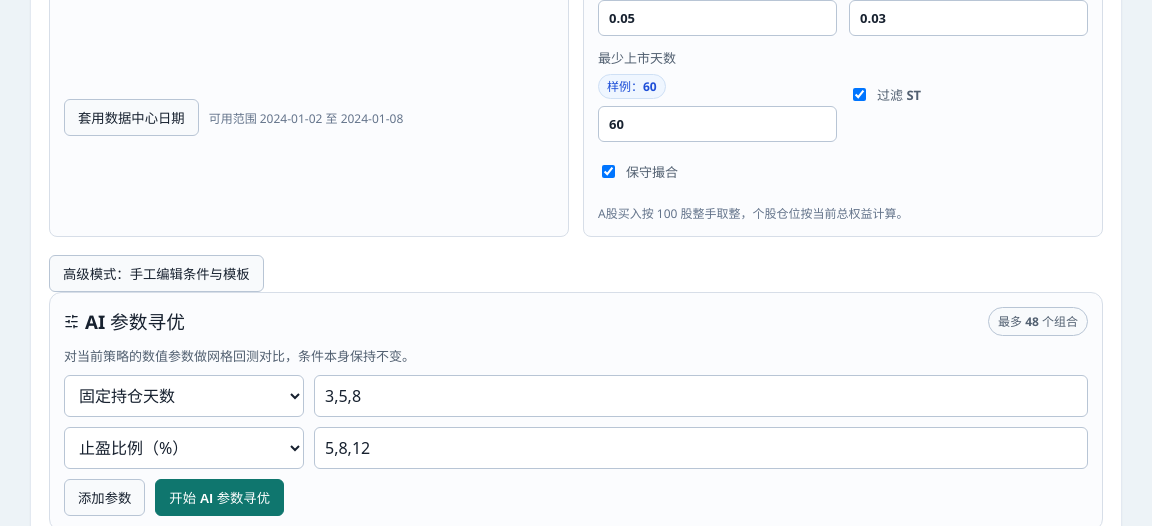
Test case: A 股回测工作台界面 › uses expression-only strategy conditions without parameter selectors
The width and height of the screenshot is (1152, 526).
(page scrolled)
Click the button "高级模式：手工编辑条件与模板". click: point(156, 273)
box: [49,255,264,292]
(page scrolled)
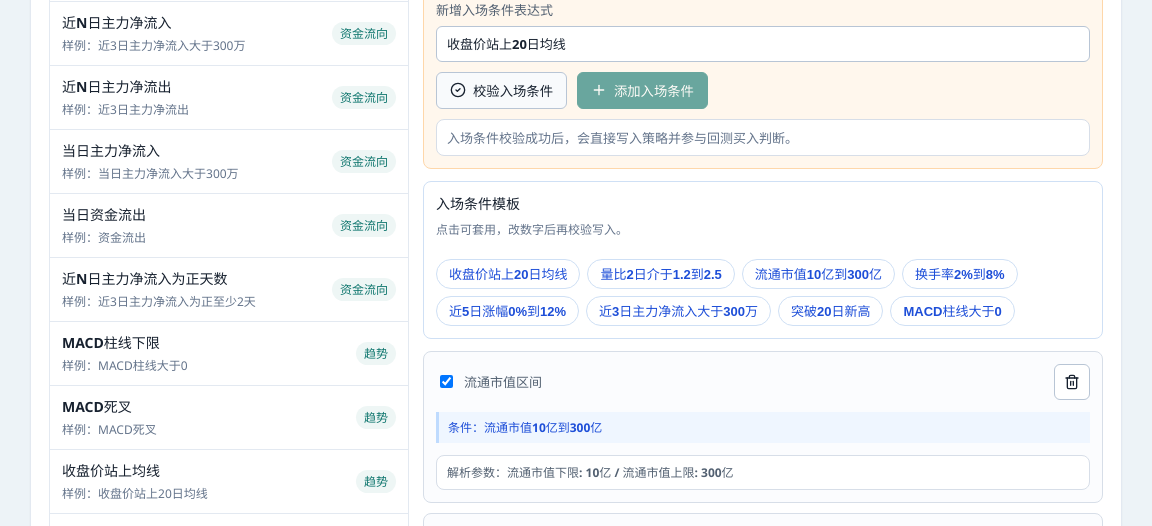
Now the field named "新增条件表达式" is shown, box [436,26,1090,62]
Now the button "收盘价站上20日均线" is shown, box [436,259,580,289]
Now the button "量比2日介于1.2到2.5" is shown, box [588,259,735,289]
